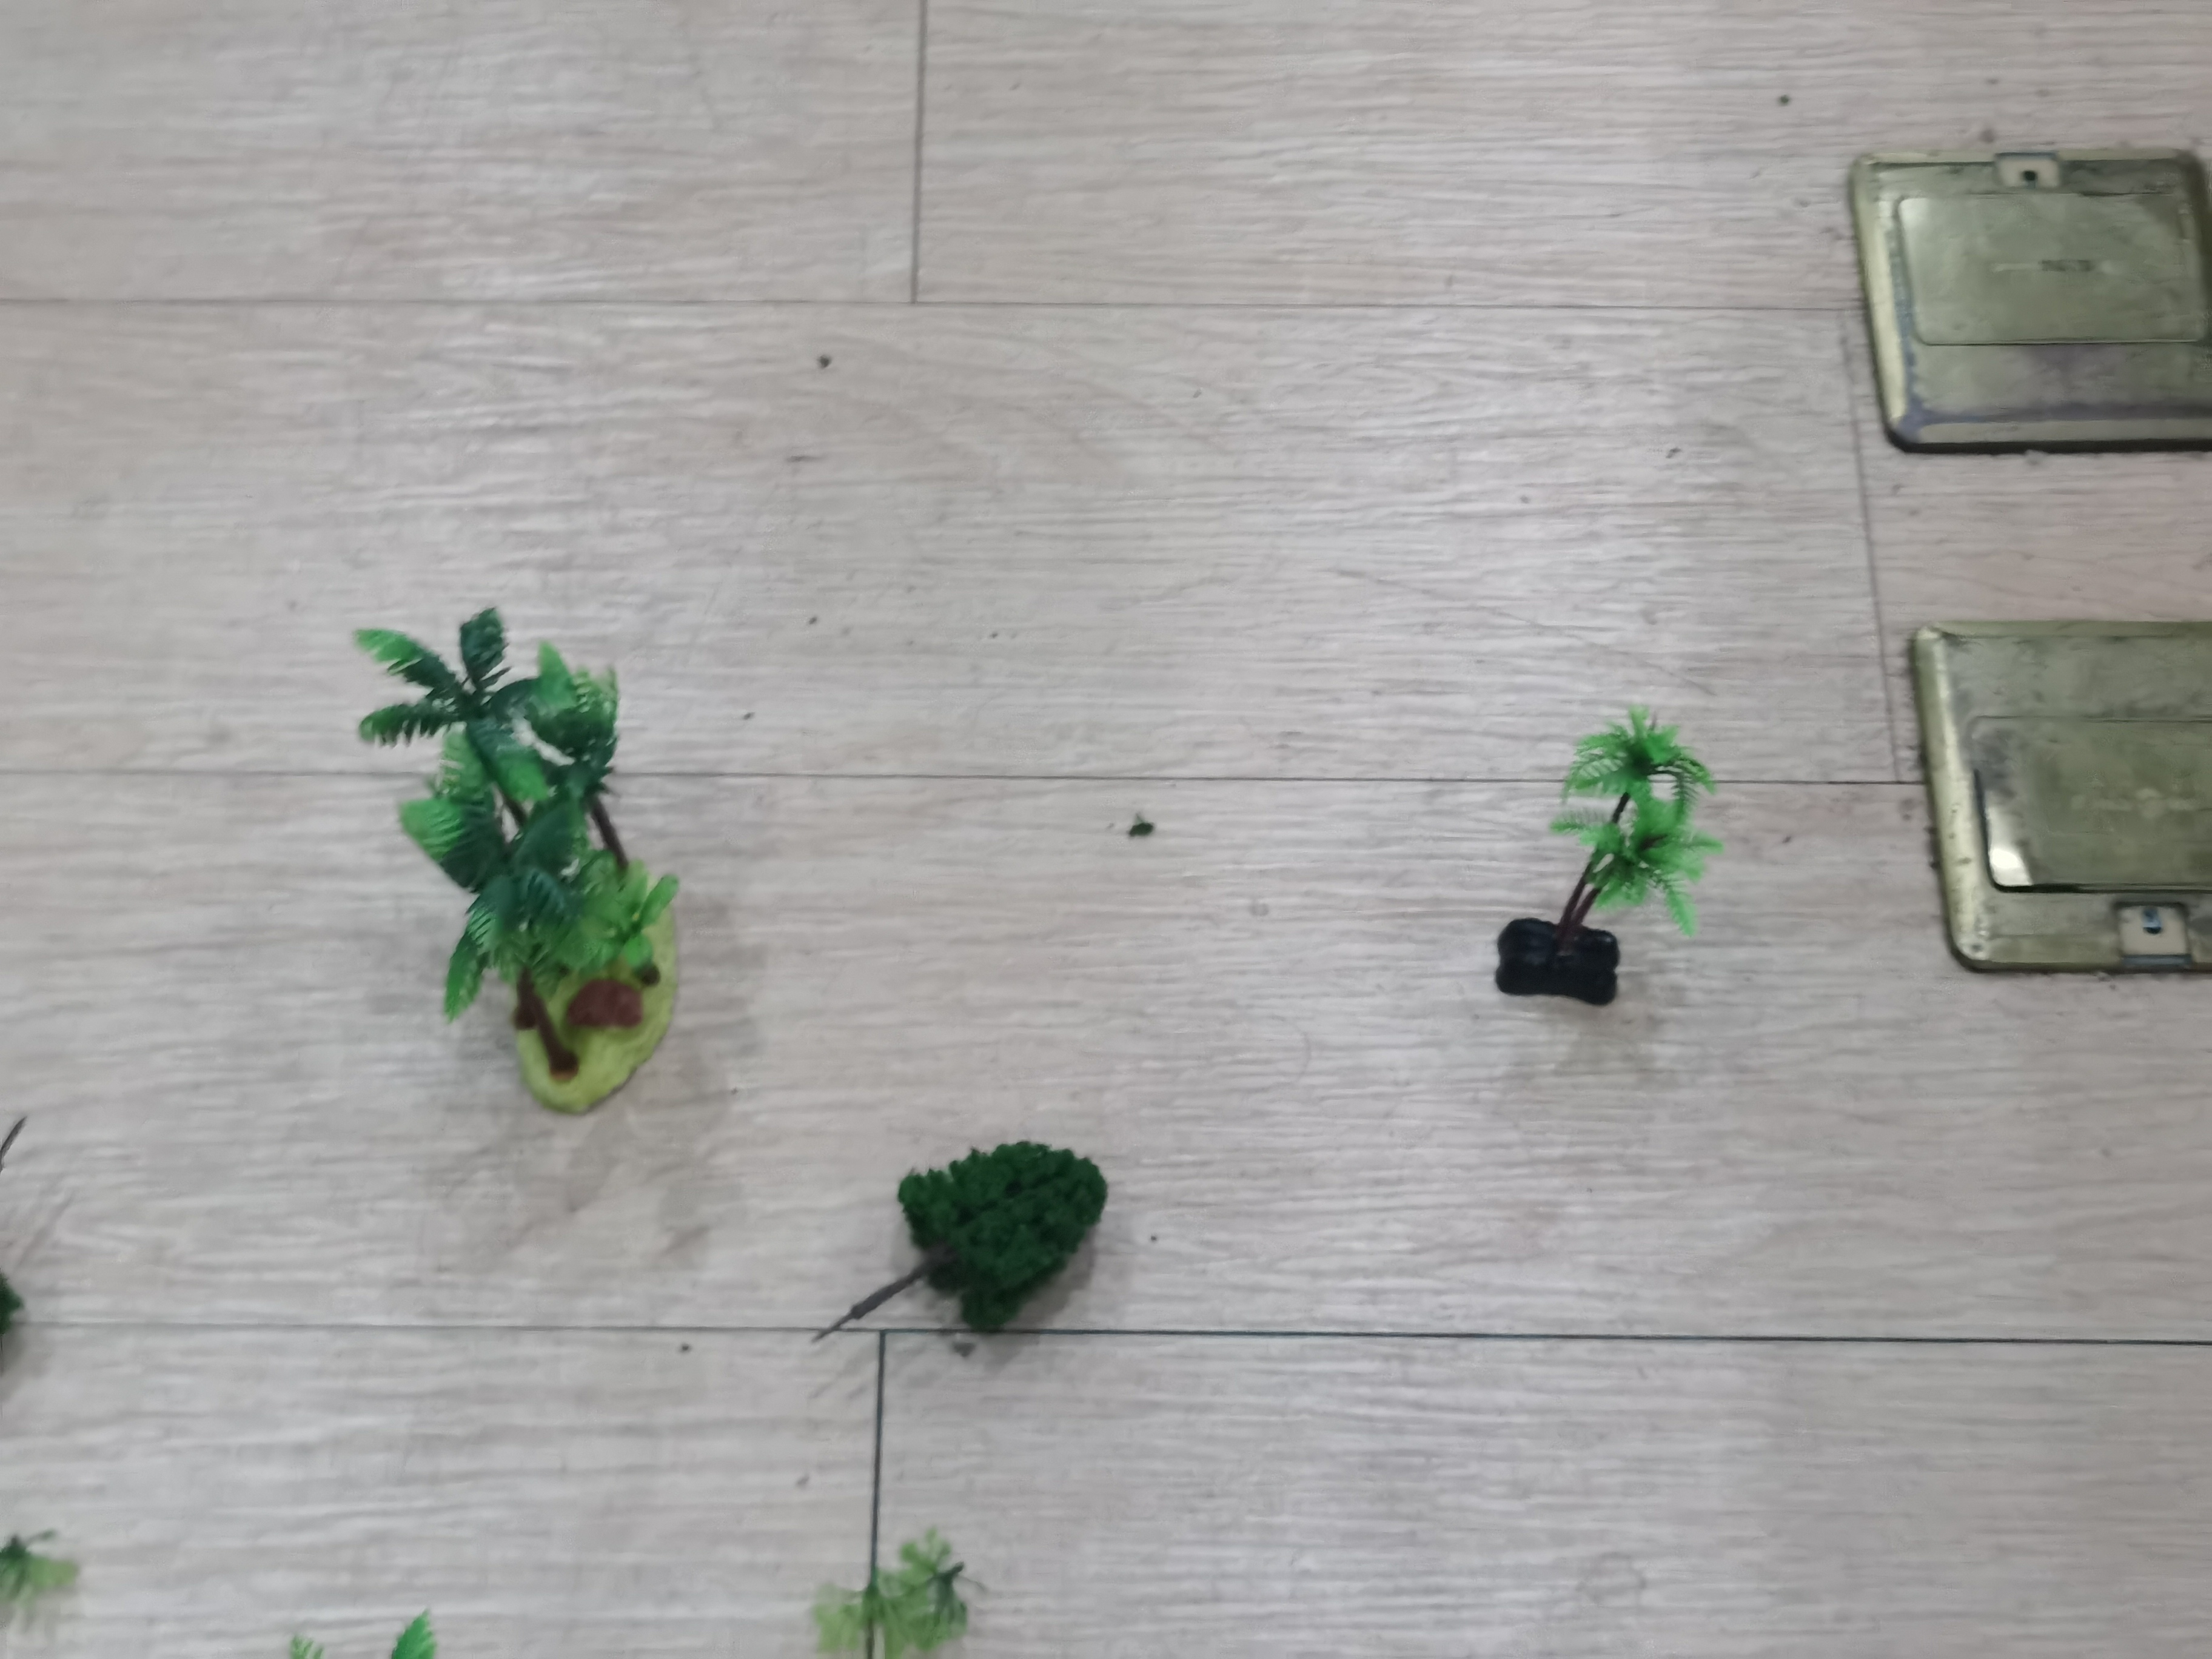corn: (343, 599, 672, 1115), (1494, 735, 1719, 1009)
